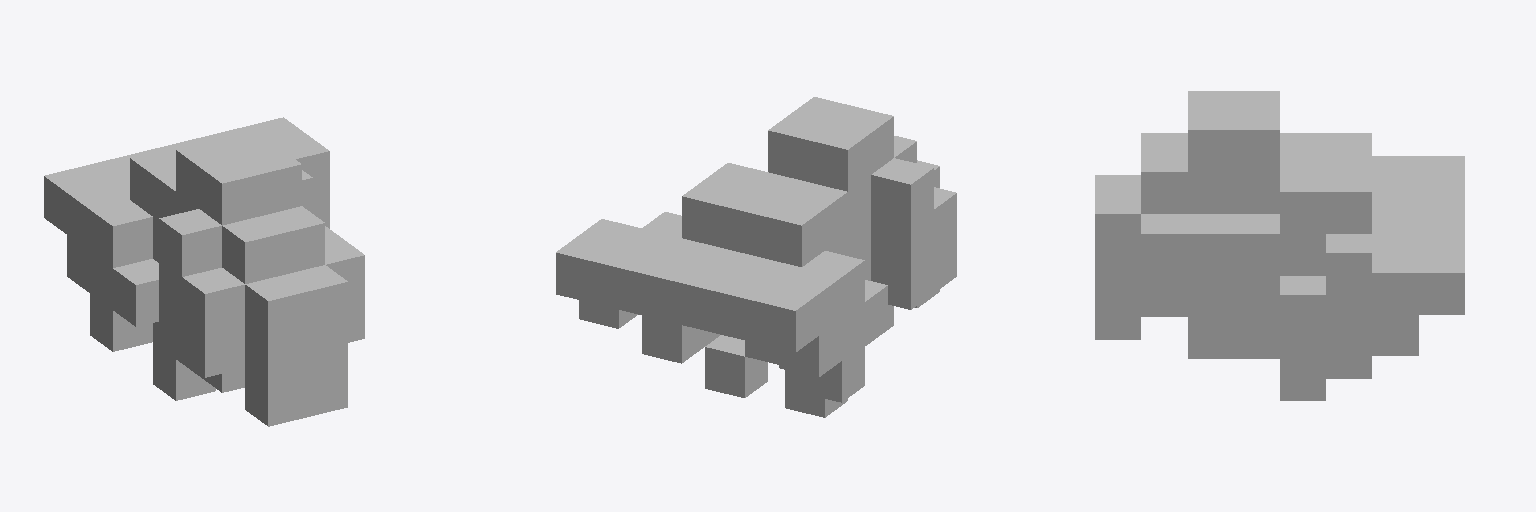
Rendered from dragon_upper_mouth.obj.
The picture shows the model from 3 angles: view 1: azimuth 30°, elevation 25°; view 2: azimuth 150°, elevation 25°; view 3: azimuth 270°, elevation 25°; orthographic projection.
Visible parts, largest first — view 1: object 1; view 2: object 1; view 3: object 1.
Part boxes in pixels (x1,y1,x2,y2): object 1: (44, 117, 364, 426); object 1: (556, 97, 956, 417); object 1: (1095, 91, 1464, 400).
Size of the model in its own units: 0.6 by 0.6 by 0.8.